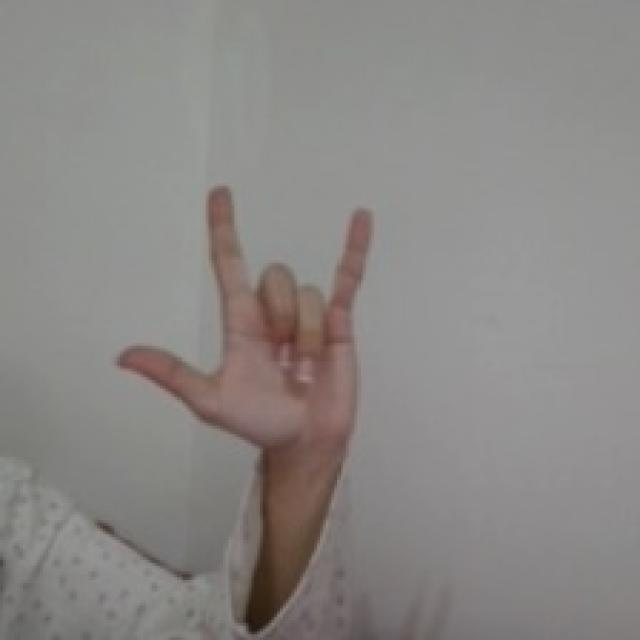love: (105, 179, 381, 455)
